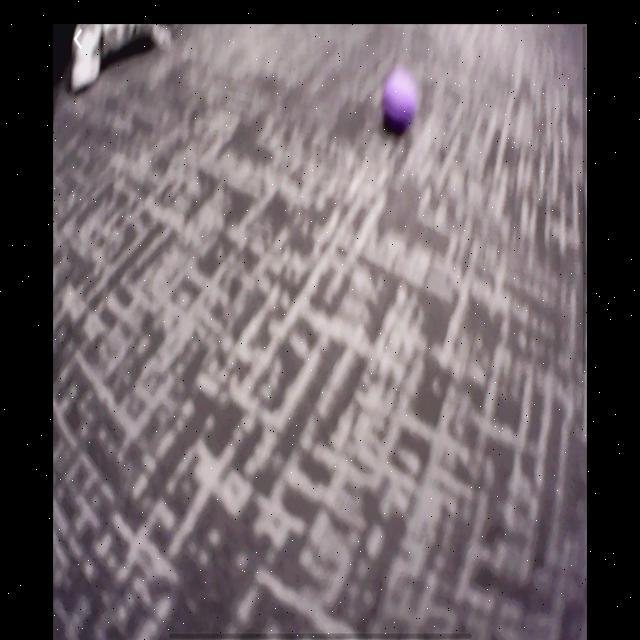ball: (382, 67, 419, 136)
